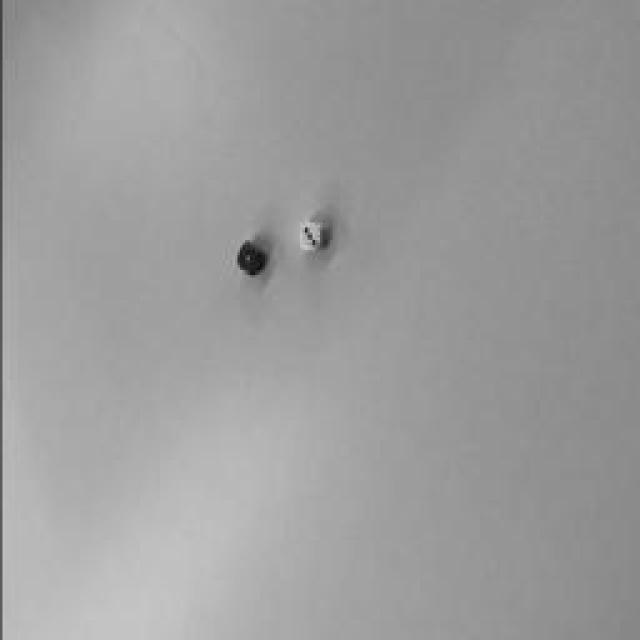dice_1: (236, 245, 256, 273)
dice_3: (300, 224, 320, 248)
